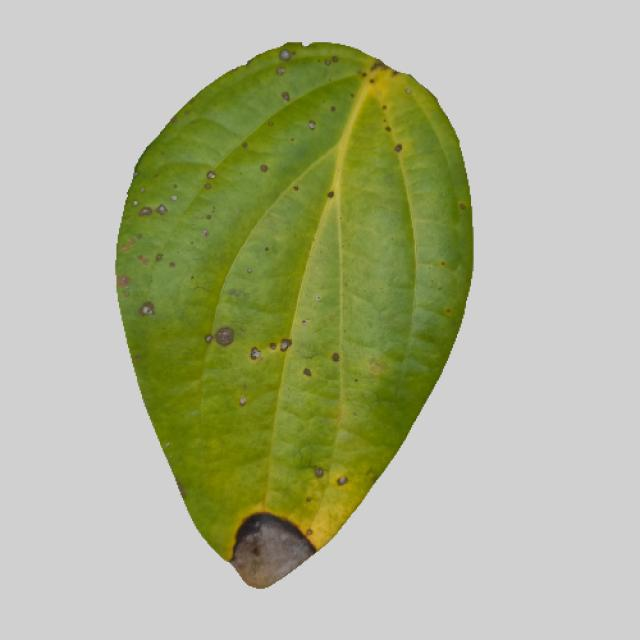leaf-blight: (101, 48, 488, 592)
